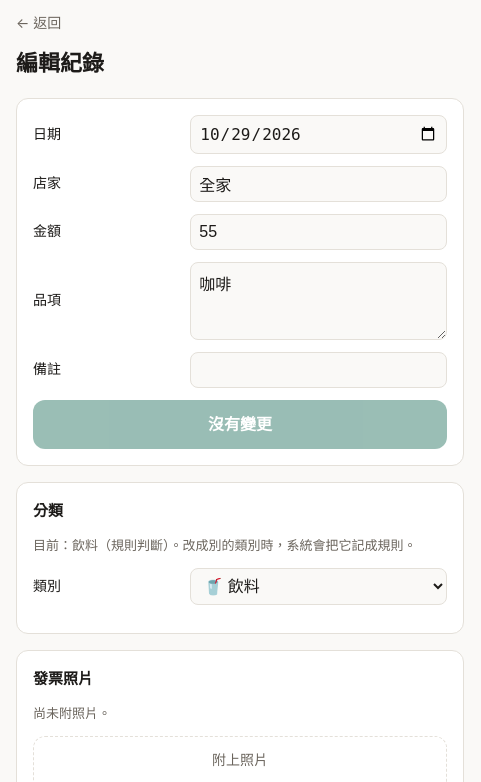
編輯紀錄：不能默默改壞資料 › 金額改回原值，儲存鈕回到「沒有變更」
The image size is (481, 782).
Replace the text in the number field labelled "金額" with "99" at (319, 232), box [190,214,447,250]
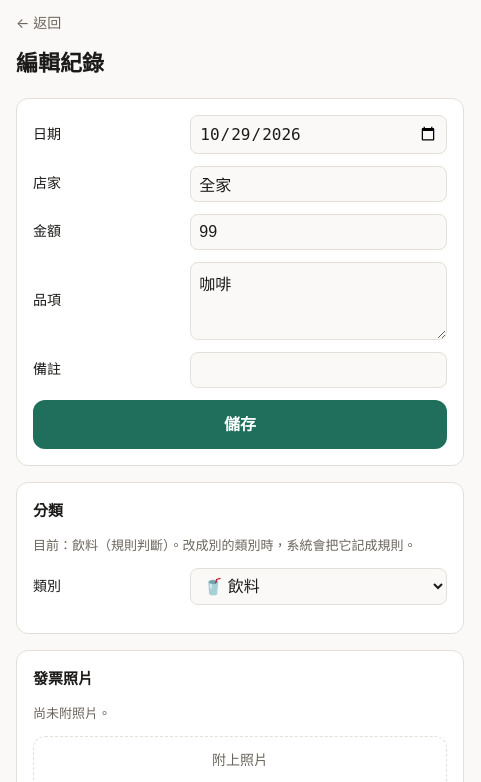
Expected: the button "儲存" is shown, [33,400,447,449]
Replace the text in the number field labelled "金額" with "55" at (319, 232), box [190,214,447,250]
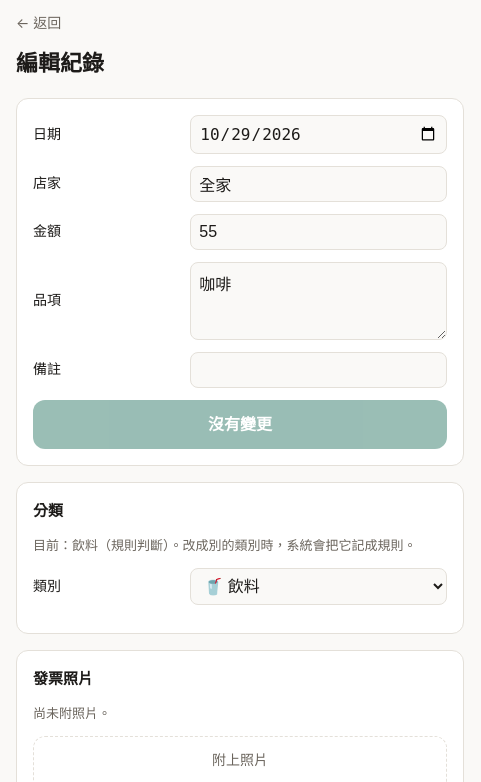
Expected: the button "沒有變更" is shown, [33,400,447,449]
